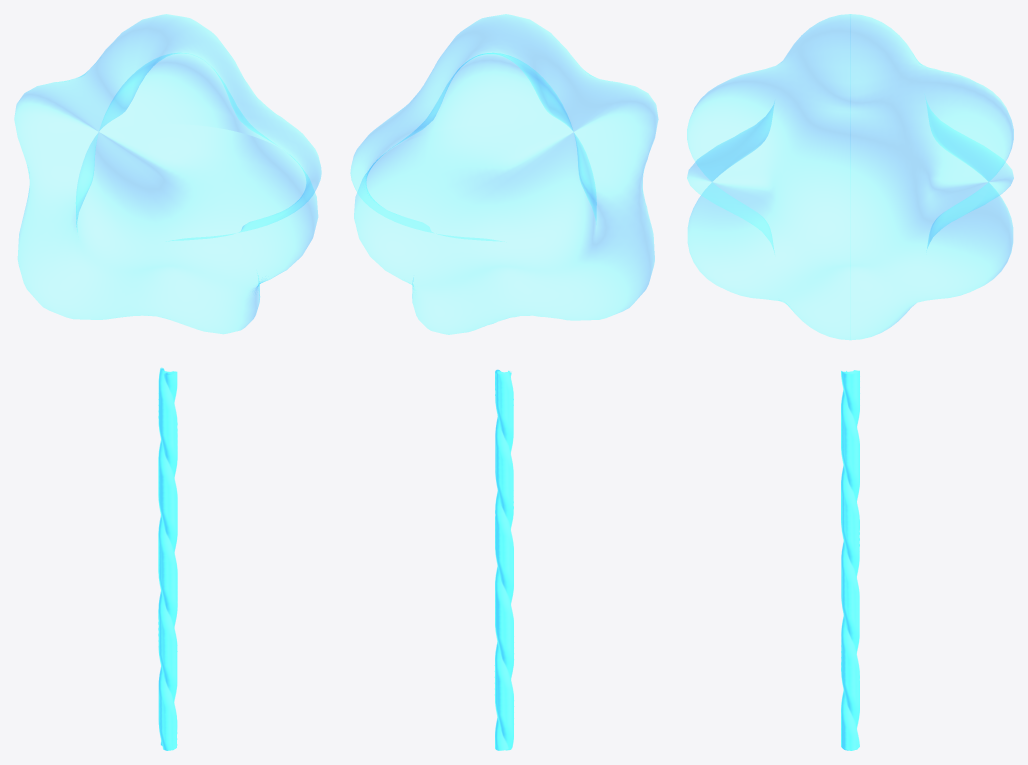
Rendered from jellyfish.glb.
3 views of the same model, side by side, from view 1: azimuth 30°, elevation 25°; view 2: azimuth 150°, elevation 25°; view 3: azimuth 270°, elevation 25° (orthographic).
Bounding box in the file's own units: 2.36 × 5.8 × 2.36.
